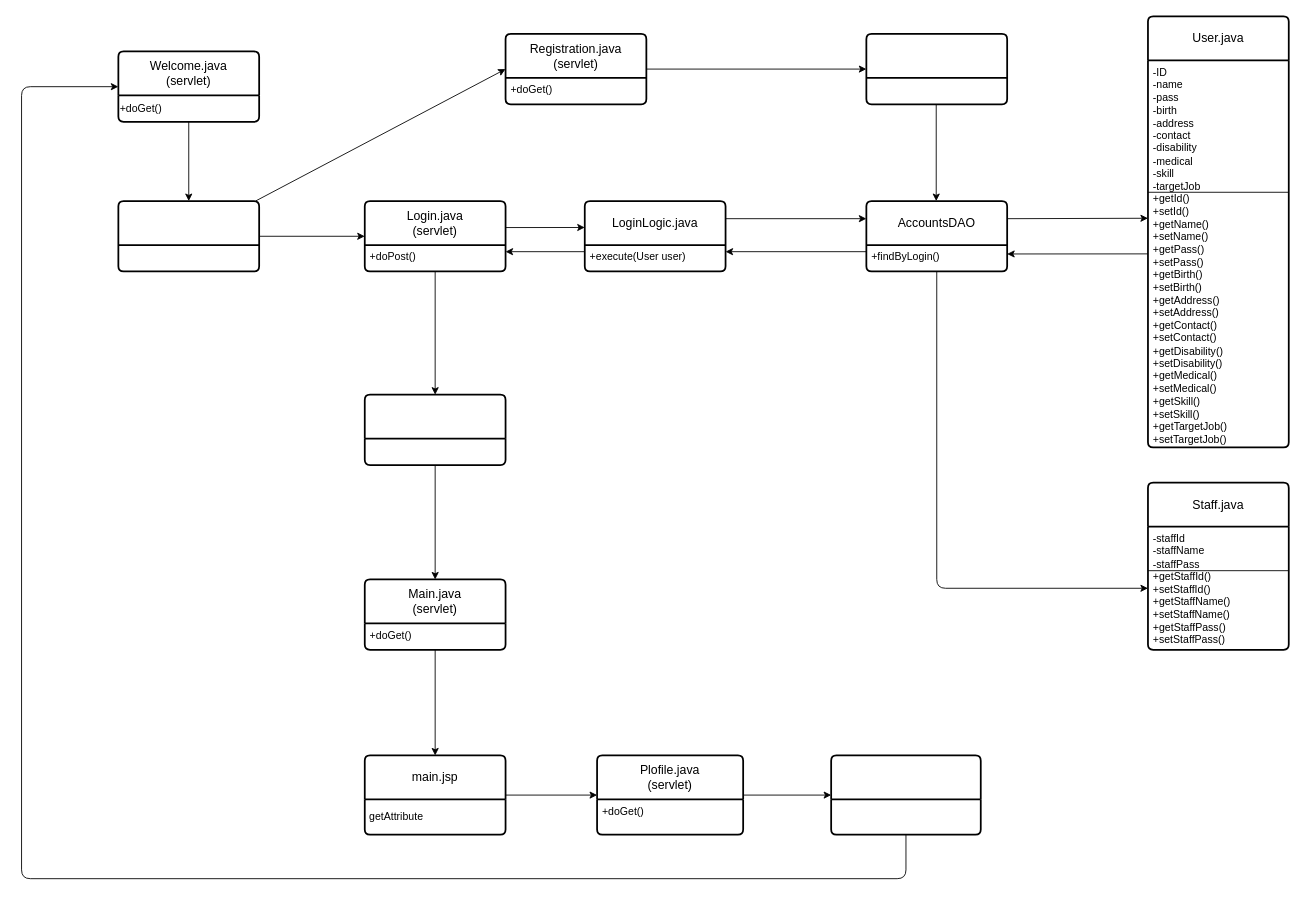
Image size: 1305x901. Some labels were removed from this diagram. The centre of each missing label's shape, as x and y in pixels:
index.jsp: (x=188, y=236)
login.jsp: (x=434, y=429)
plofile.jsp: (x=905, y=794)
registration.jsp: (x=936, y=69)
